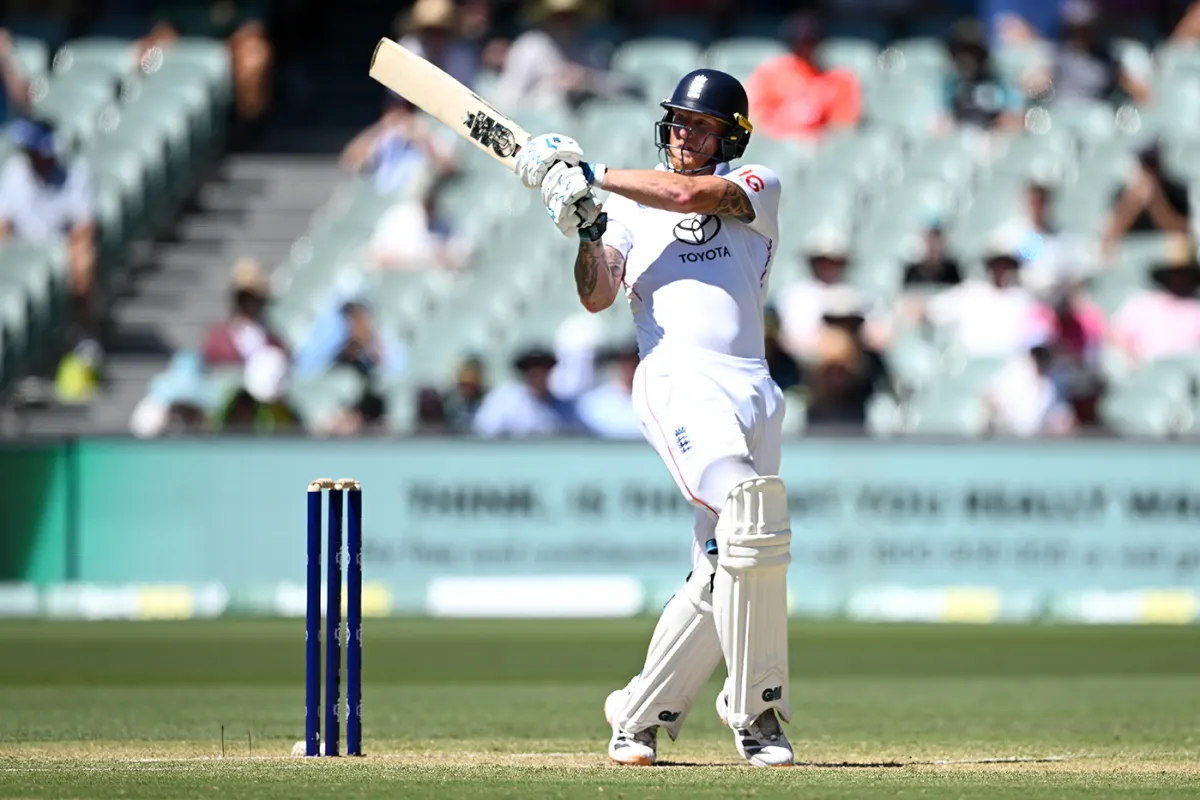Pullshot: (183, 3, 874, 800)
